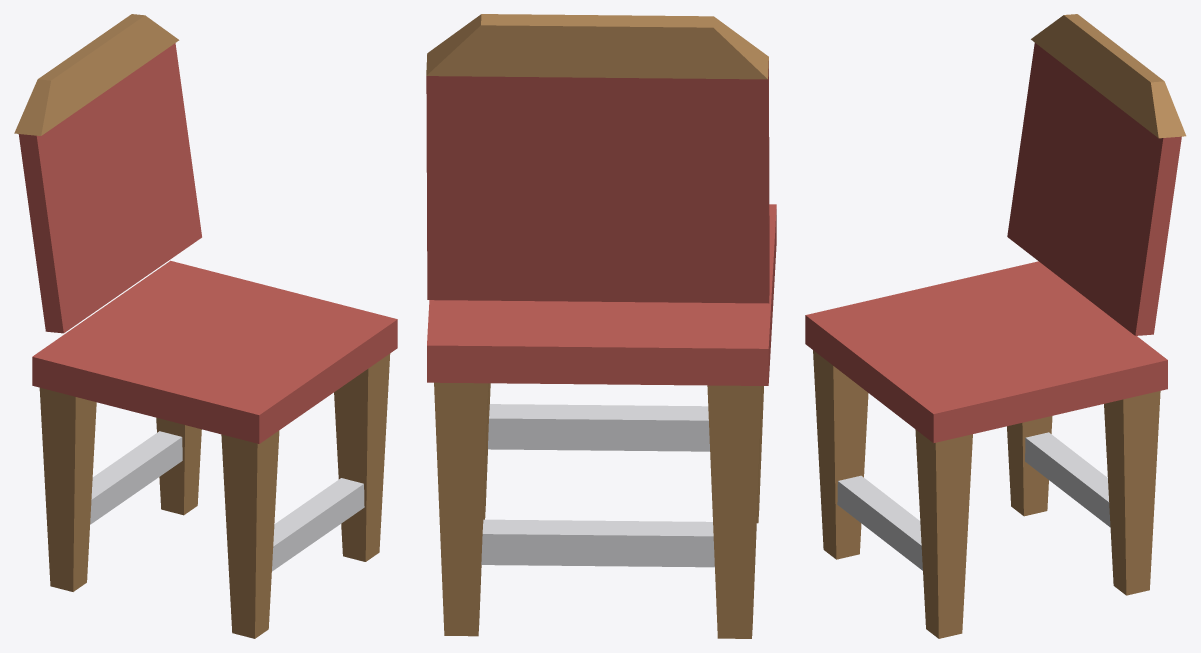
File: chair_required_extension.glb
3 renders of one model, left to right at view 1: azimuth 30°, elevation 25°; view 2: azimuth 150°, elevation 25°; view 3: azimuth 270°, elevation 25°, orthographic. The views are drawn at different scales.
Visible parts, largest first — view 1: Seat, Back, LegFR, LegBR, Rails, Crest, LegFL, LegBL; view 2: Back, Seat, Rails, Crest, LegBR, LegBL; view 3: Seat, Back, LegFL, LegBL, Crest, LegFR, Rails, LegBR.
Part boxes in pixels (bbox=[...]): Seat: bbox=[32, 260, 397, 443]; Back: bbox=[18, 43, 201, 333]; LegFR: bbox=[221, 430, 279, 638]; LegBR: bbox=[39, 387, 96, 591]; Rails: bbox=[90, 431, 364, 571]; Crest: bbox=[14, 14, 179, 135]; LegFL: bbox=[334, 353, 390, 561]; LegBL: bbox=[156, 417, 201, 515]; Back: bbox=[426, 61, 769, 303]; Seat: bbox=[427, 204, 776, 385]; Rails: bbox=[481, 404, 714, 567]; Crest: bbox=[426, 14, 768, 79]; LegBR: bbox=[707, 385, 762, 638]; LegBL: bbox=[434, 382, 488, 636]; Seat: bbox=[805, 261, 1167, 443]; Back: bbox=[1007, 43, 1181, 335]; LegFL: bbox=[915, 429, 972, 638]; LegBL: bbox=[1104, 391, 1160, 595]; Crest: bbox=[1031, 14, 1186, 138]; LegFR: bbox=[813, 350, 868, 559]; Rails: bbox=[837, 432, 1110, 570]; LegBR: bbox=[1007, 416, 1052, 516].
Size of what is drawn, in the model's own units: 0.6975 by 1.02 by 0.7132.
